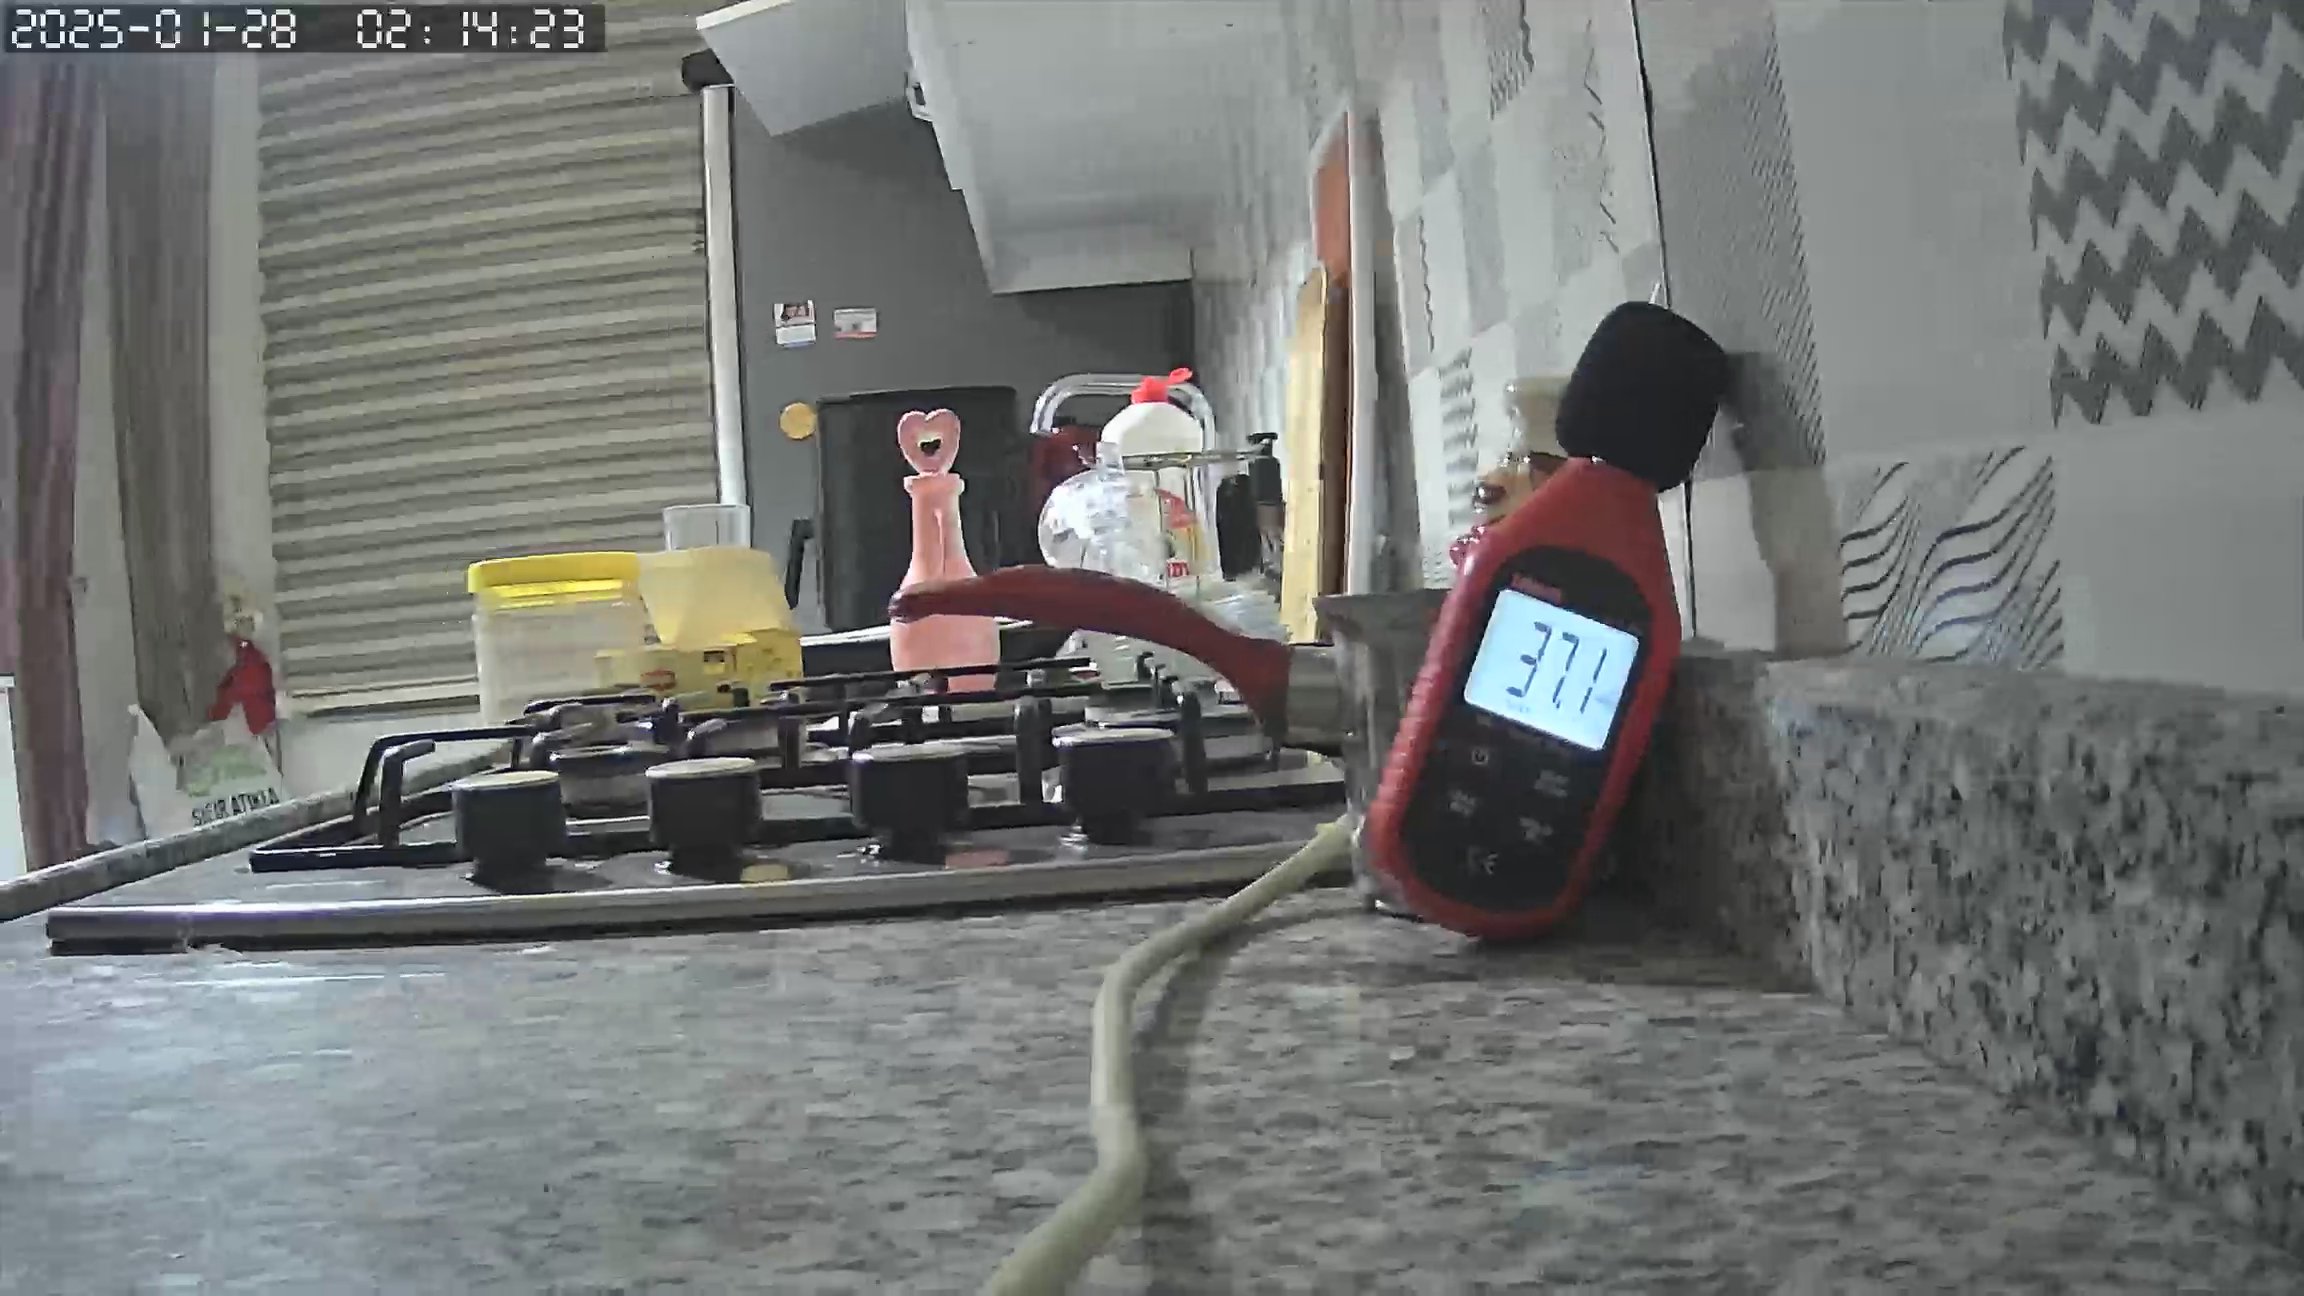screen: (1468, 590, 1644, 748)
